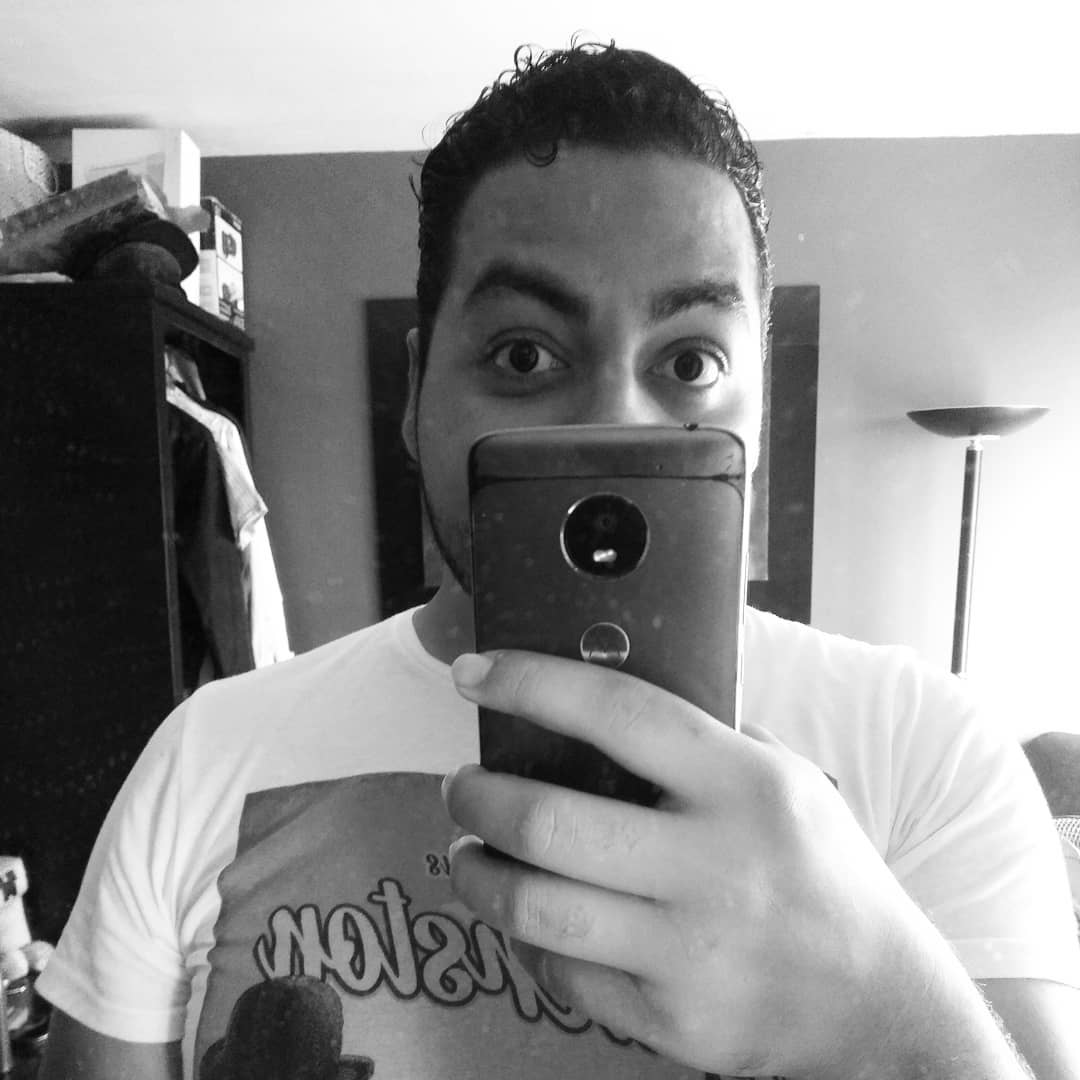Yoshi: (280, 32, 924, 812)
